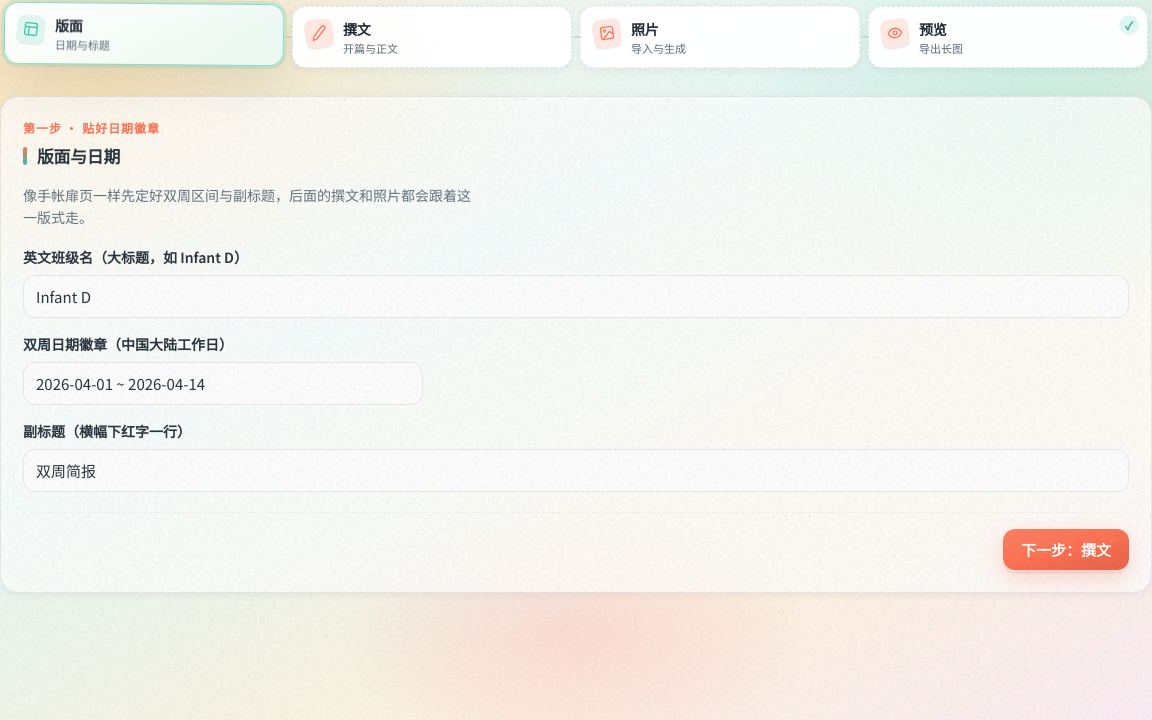
Test case: ReportWorkbench — PhotoList/PreviewPanel always-mounted fix › photos section becomes visible when navigating to photos step
Click the button with class "workbench-step__label": x=319, y=33 [292, 6, 572, 68]
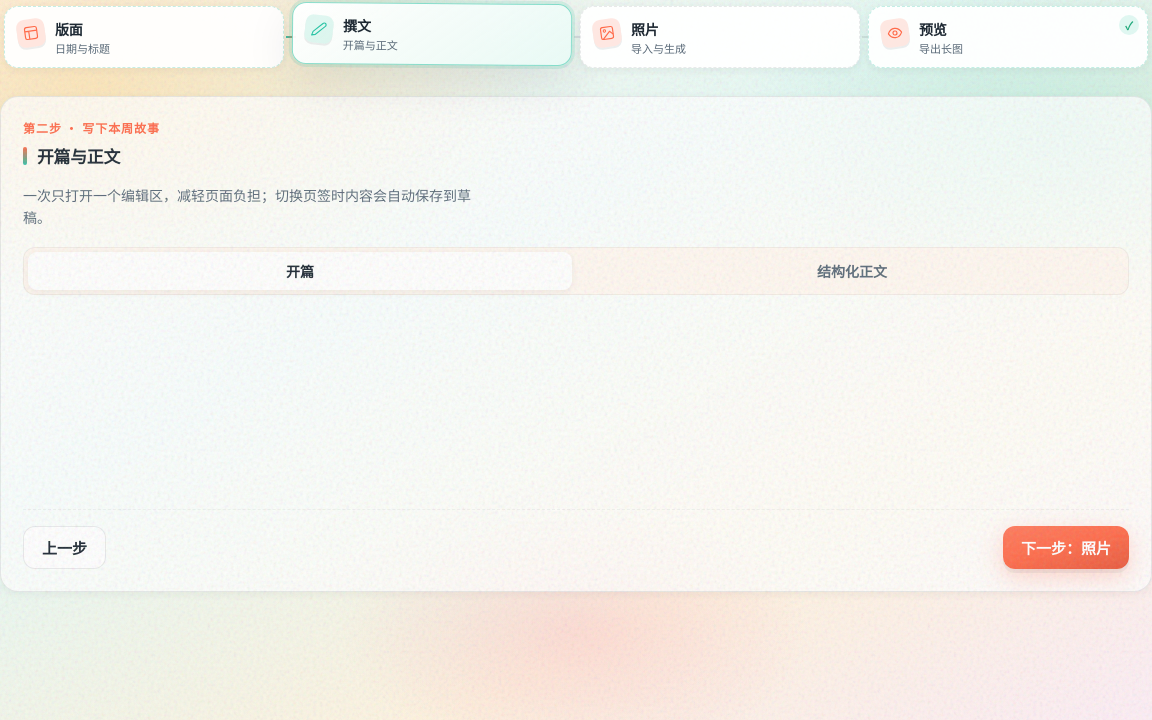
Click the button with class "workbench-step__label": x=607, y=33 [580, 6, 860, 68]
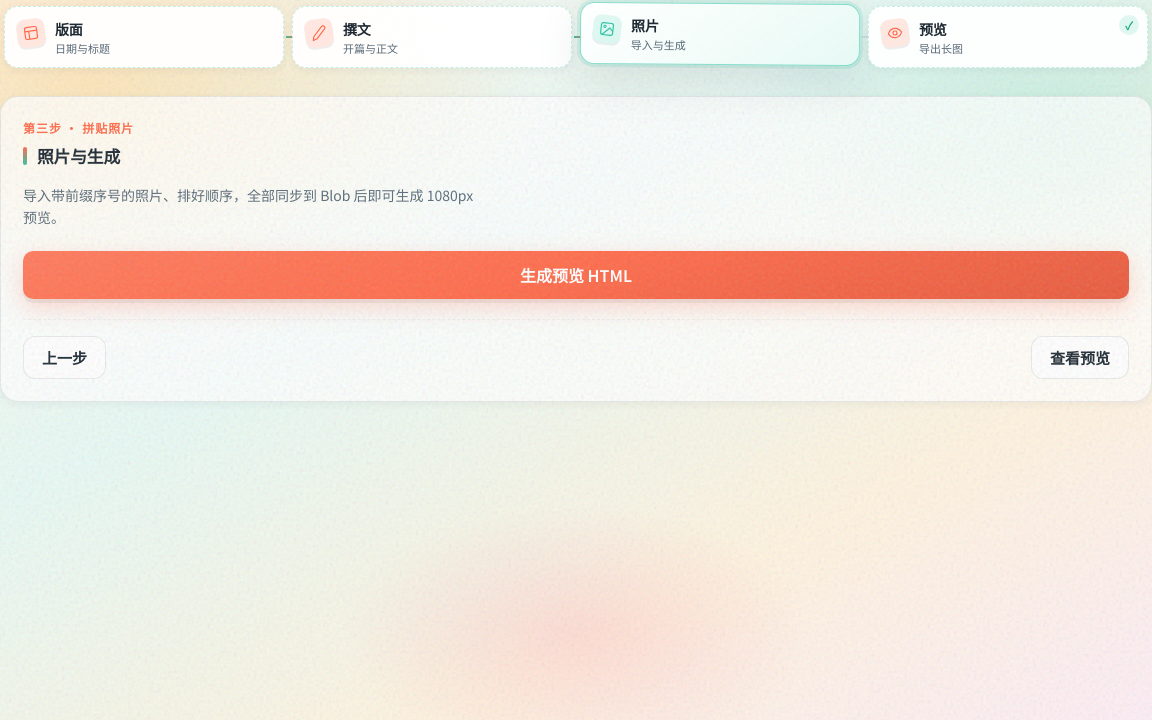
Now the element with class "workbench-panel--photos" is shown, box [0, 96, 1151, 402]
